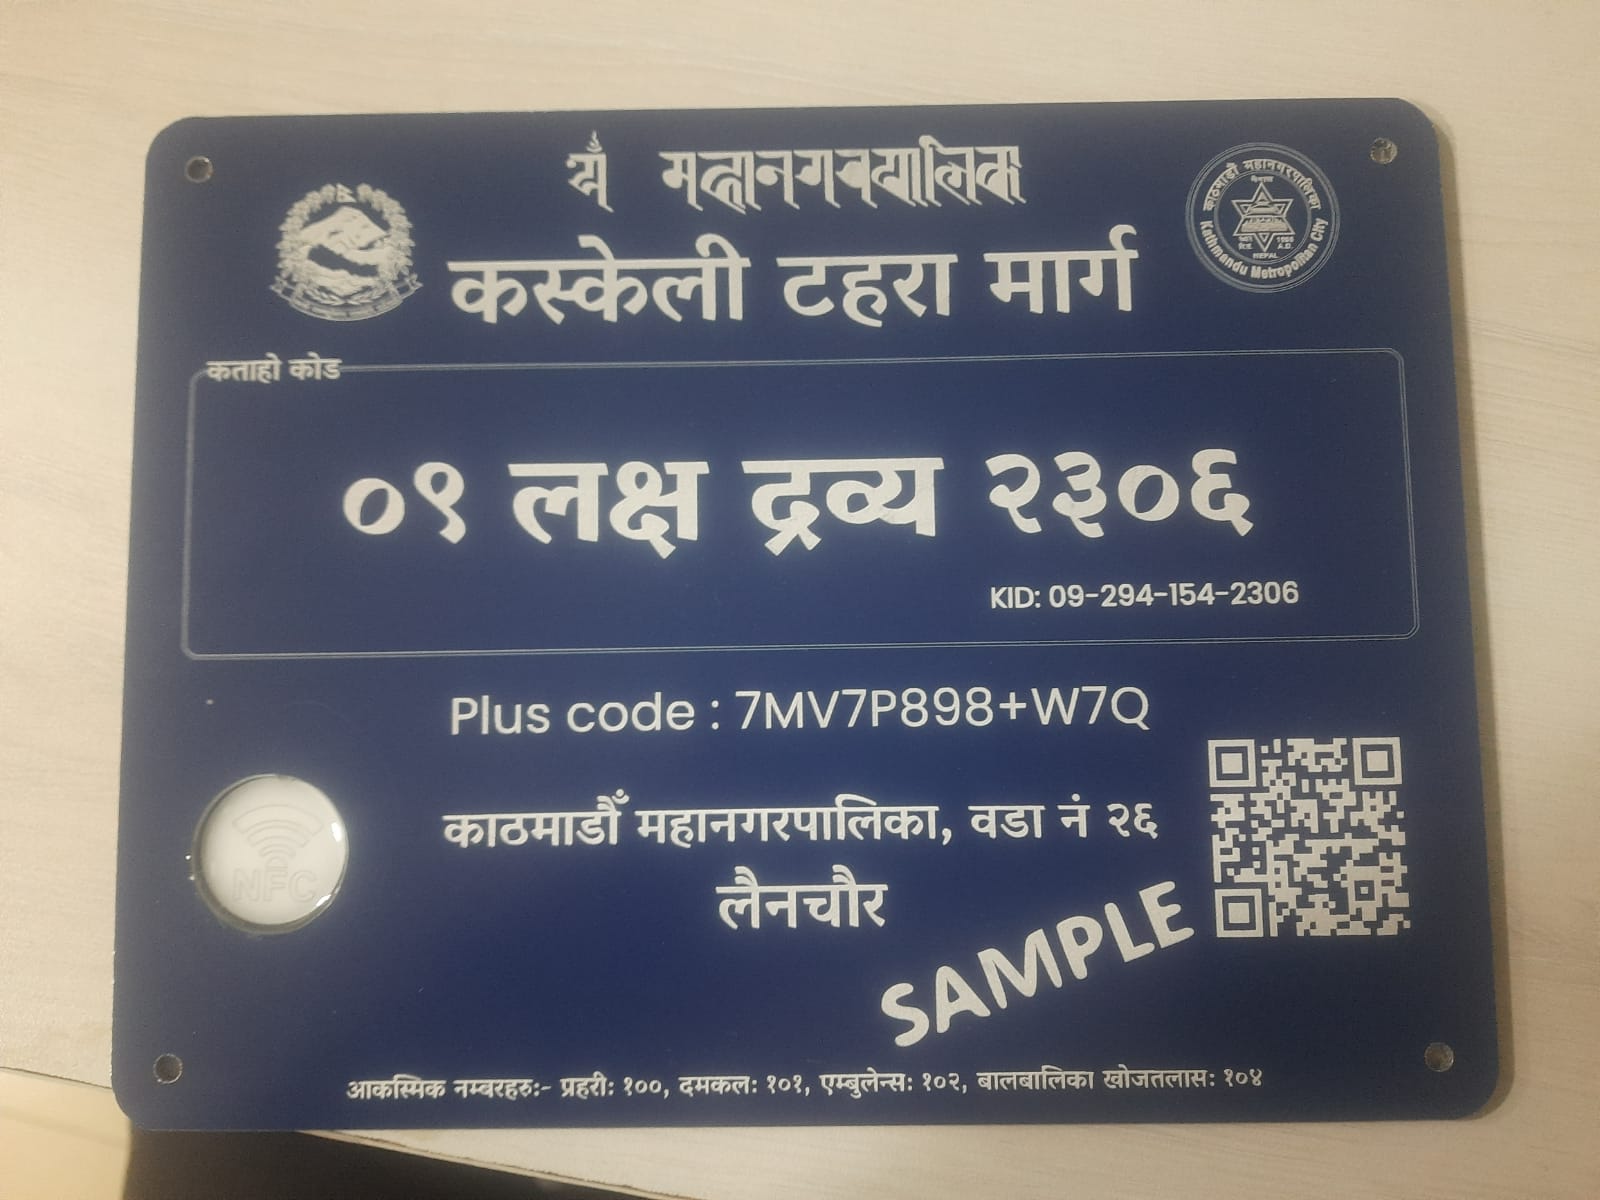Plate: (100, 78, 1516, 1130)
